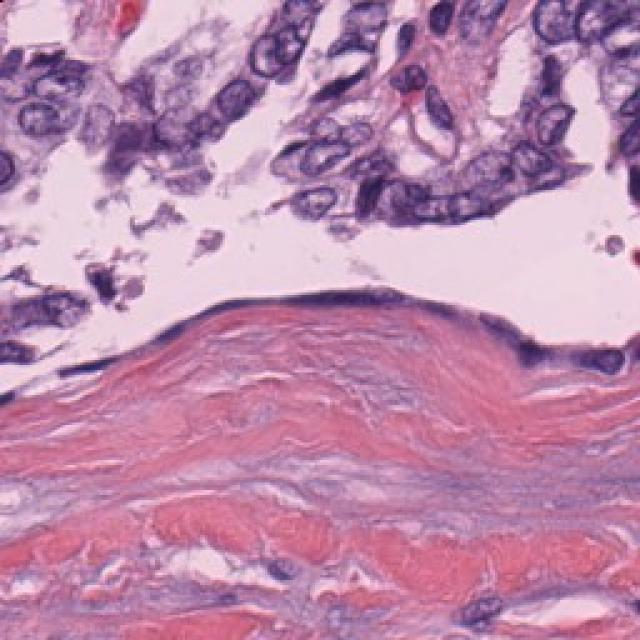abnormal: (505, 123, 565, 210), (0, 78, 70, 145), (445, 0, 525, 50), (525, 93, 590, 152), (320, 0, 393, 50), (292, 137, 368, 185), (410, 175, 463, 242), (200, 78, 265, 132), (250, 35, 300, 92), (507, 135, 565, 180)
